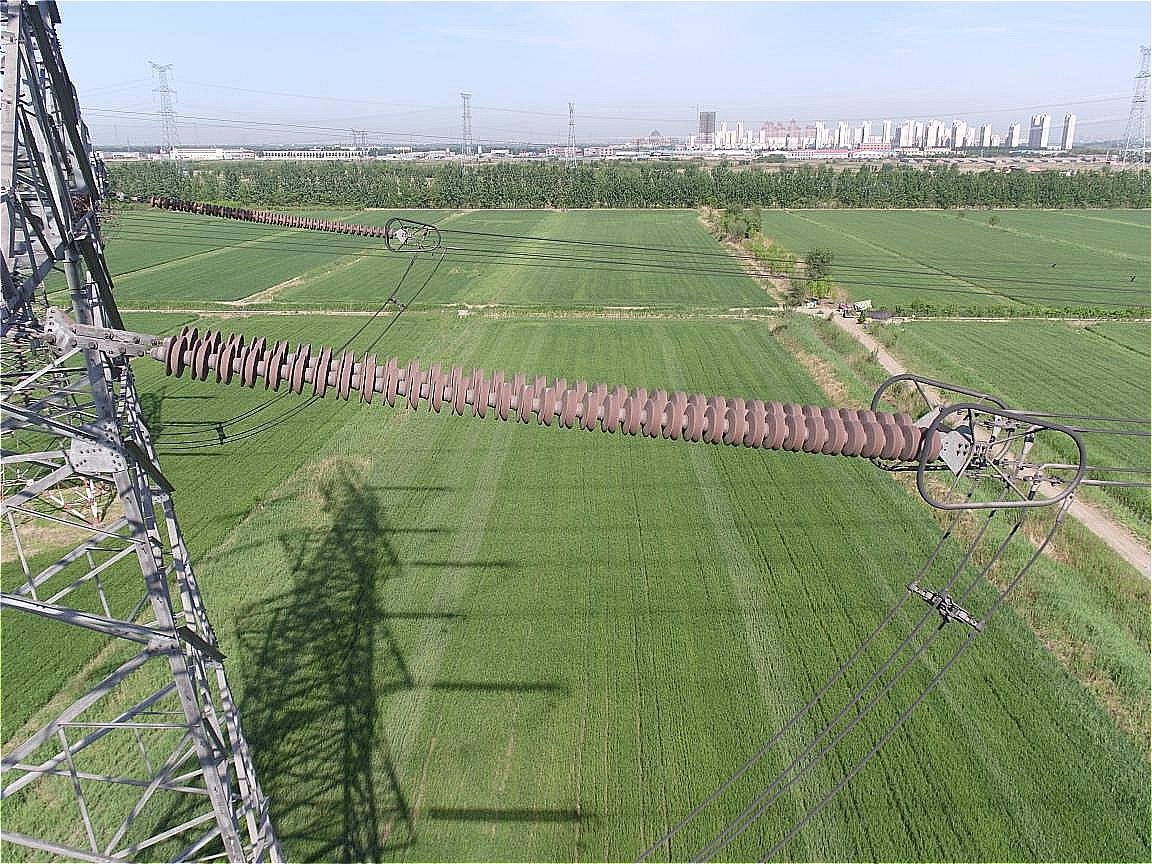insultor2: (146, 309, 967, 465)
